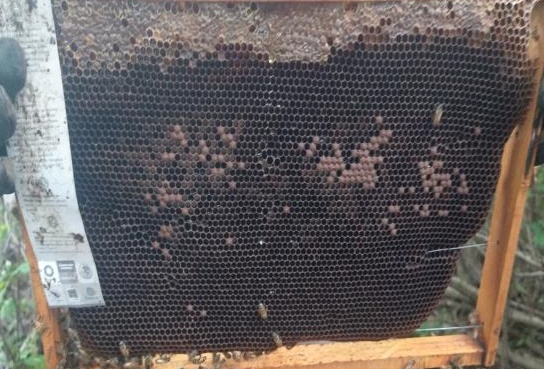cria: (105, 84, 485, 323)
